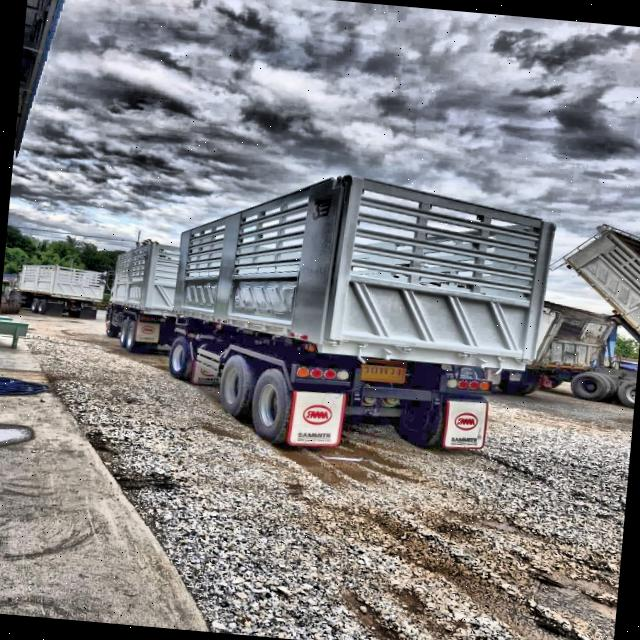trailer: (88, 119, 570, 517)
